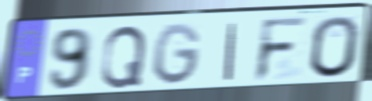9: (45, 26, 97, 94)
F: (252, 15, 311, 84)
G: (152, 21, 203, 88)
I: (222, 21, 239, 82)
O: (308, 14, 361, 80)
Q: (99, 24, 149, 91)
